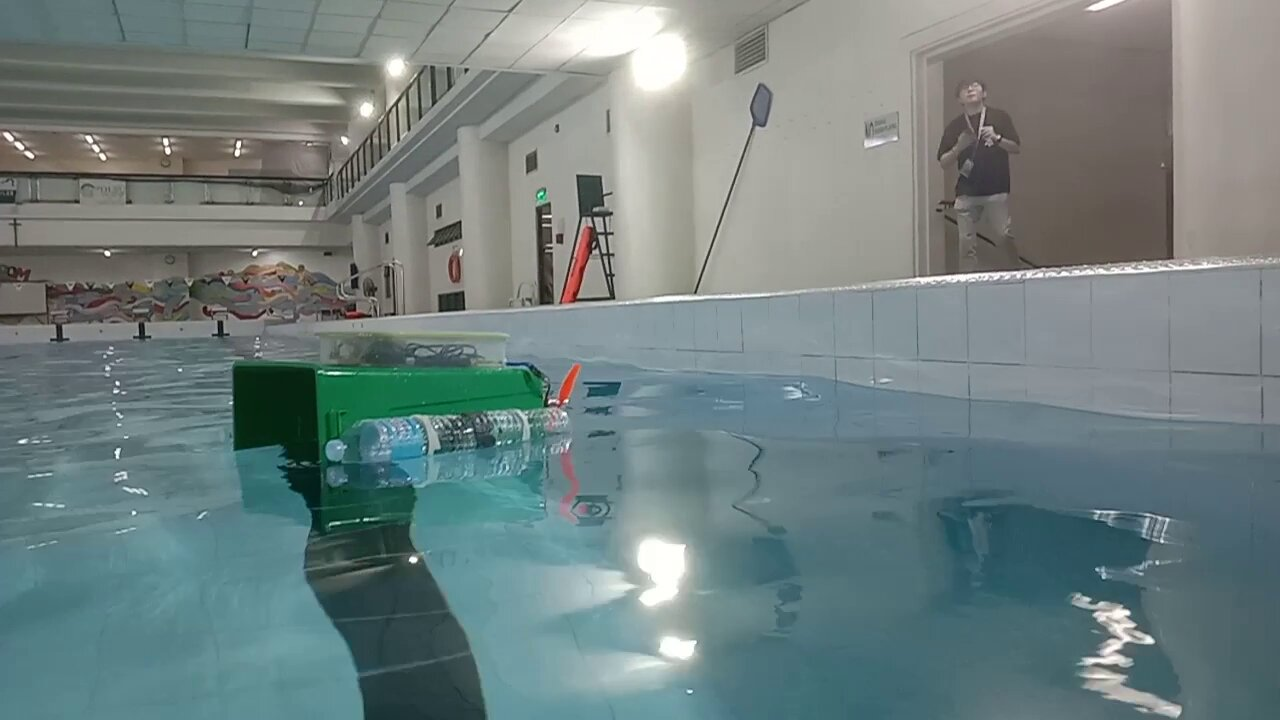drone: (232, 329, 580, 465)
